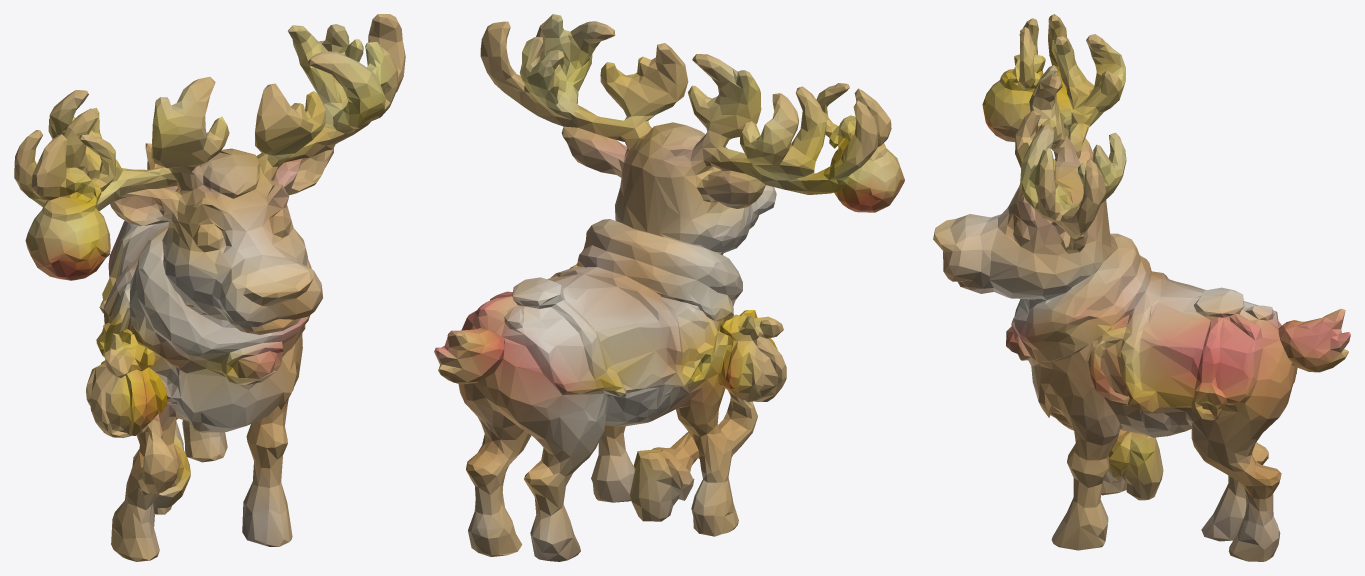
File: rengeyigi.glb
The picture shows the model from 3 angles, left to right: view 1: azimuth 30°, elevation 25°; view 2: azimuth 150°, elevation 25°; view 3: azimuth 270°, elevation 25°; orthographic projection. The views are drawn at different scales.
Visible parts, largest first — view 1: geometry_0; view 2: geometry_0; view 3: geometry_0.
Part boxes in pixels (<box>): geometry_0: <box>14,14,405,561</box>; geometry_0: <box>434,14,904,561</box>; geometry_0: <box>933,14,1350,561</box>.
Size of the model in its own units: 0.8792 by 1 by 0.8728.
